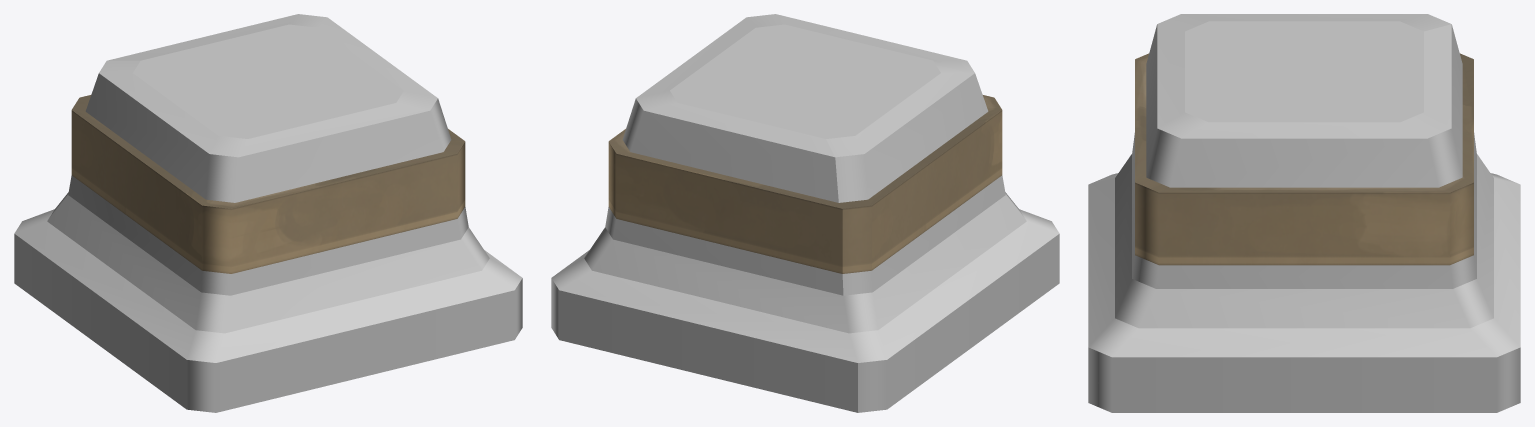
Rendered from SM_Mod_Pillar_Bottom_01.fbx.
3 renders of one model, left to right at view 1: azimuth 30°, elevation 25°; view 2: azimuth 150°, elevation 25°; view 3: azimuth 270°, elevation 25°, orthographic. The views are drawn at different scales.
Visible parts, largest first — view 1: SM_Mod_Pillar_Bottom_01; view 2: SM_Mod_Pillar_Bottom_01; view 3: SM_Mod_Pillar_Bottom_01.
Part boxes in pixels (left/top/right/bottom): SM_Mod_Pillar_Bottom_01: left=14, top=14, right=522, bottom=412; SM_Mod_Pillar_Bottom_01: left=551, top=14, right=1059, bottom=412; SM_Mod_Pillar_Bottom_01: left=1088, top=14, right=1520, bottom=412.
Bounding box in the file's own units: 1.25 × 0.7969 × 1.25.
